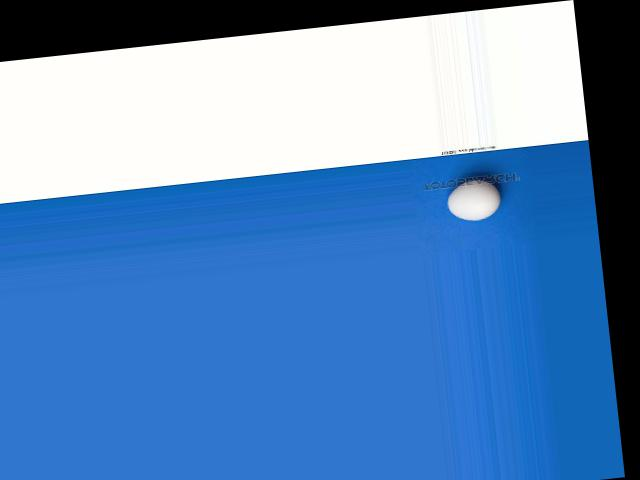egg: (445, 176, 502, 222)
